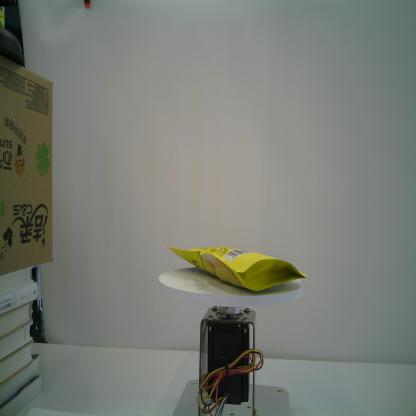Dried Fruit: (166, 244, 308, 292)
